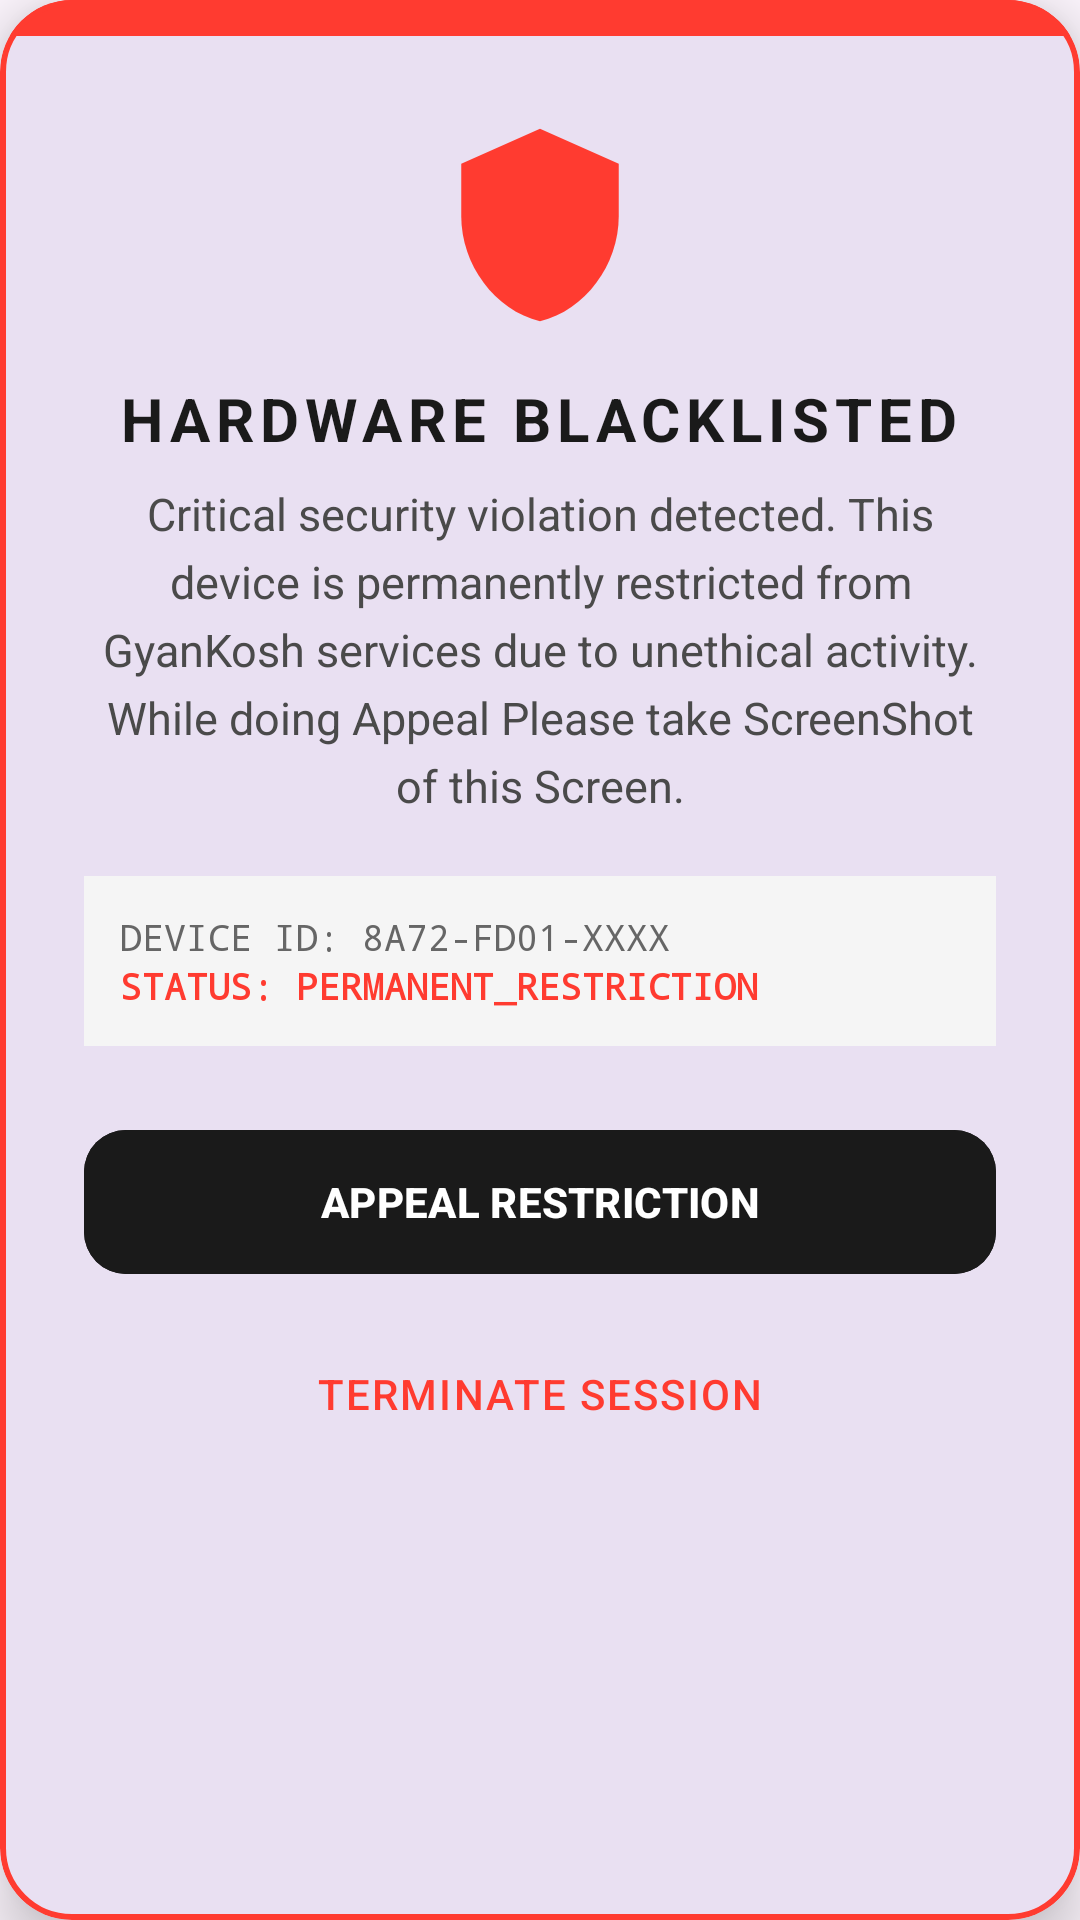

Screen size 1080x1920. Icon name, then its box in pixels as (x1, y1, x2, y2):
block security: (461, 129, 619, 321)
